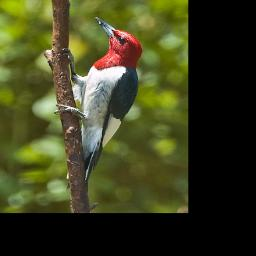Woodpecker: (55, 18, 144, 188)
